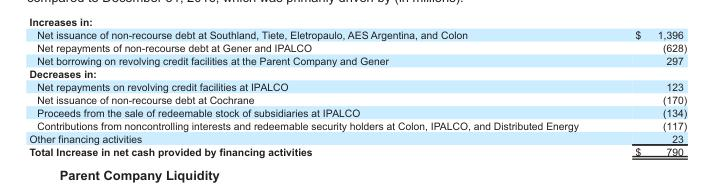table: (28, 28, 686, 156)
table column: (28, 28, 606, 156), (606, 28, 686, 156)
table projected row header: (28, 67, 686, 79)
table row: (28, 28, 686, 41), (28, 41, 686, 54), (28, 54, 686, 67), (28, 79, 686, 92), (28, 92, 686, 105), (28, 105, 686, 118), (28, 118, 686, 131), (28, 131, 686, 144), (28, 67, 686, 79), (28, 144, 686, 156)
